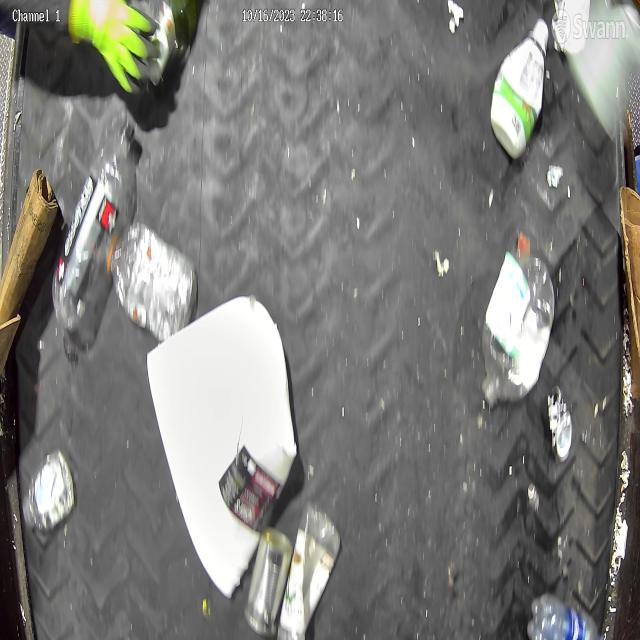can: (244, 526, 294, 638), (548, 387, 575, 462)
plastic_bottle: (52, 119, 135, 332), (482, 234, 559, 410), (106, 223, 199, 344), (276, 503, 341, 640), (23, 447, 76, 537), (524, 590, 602, 640)
